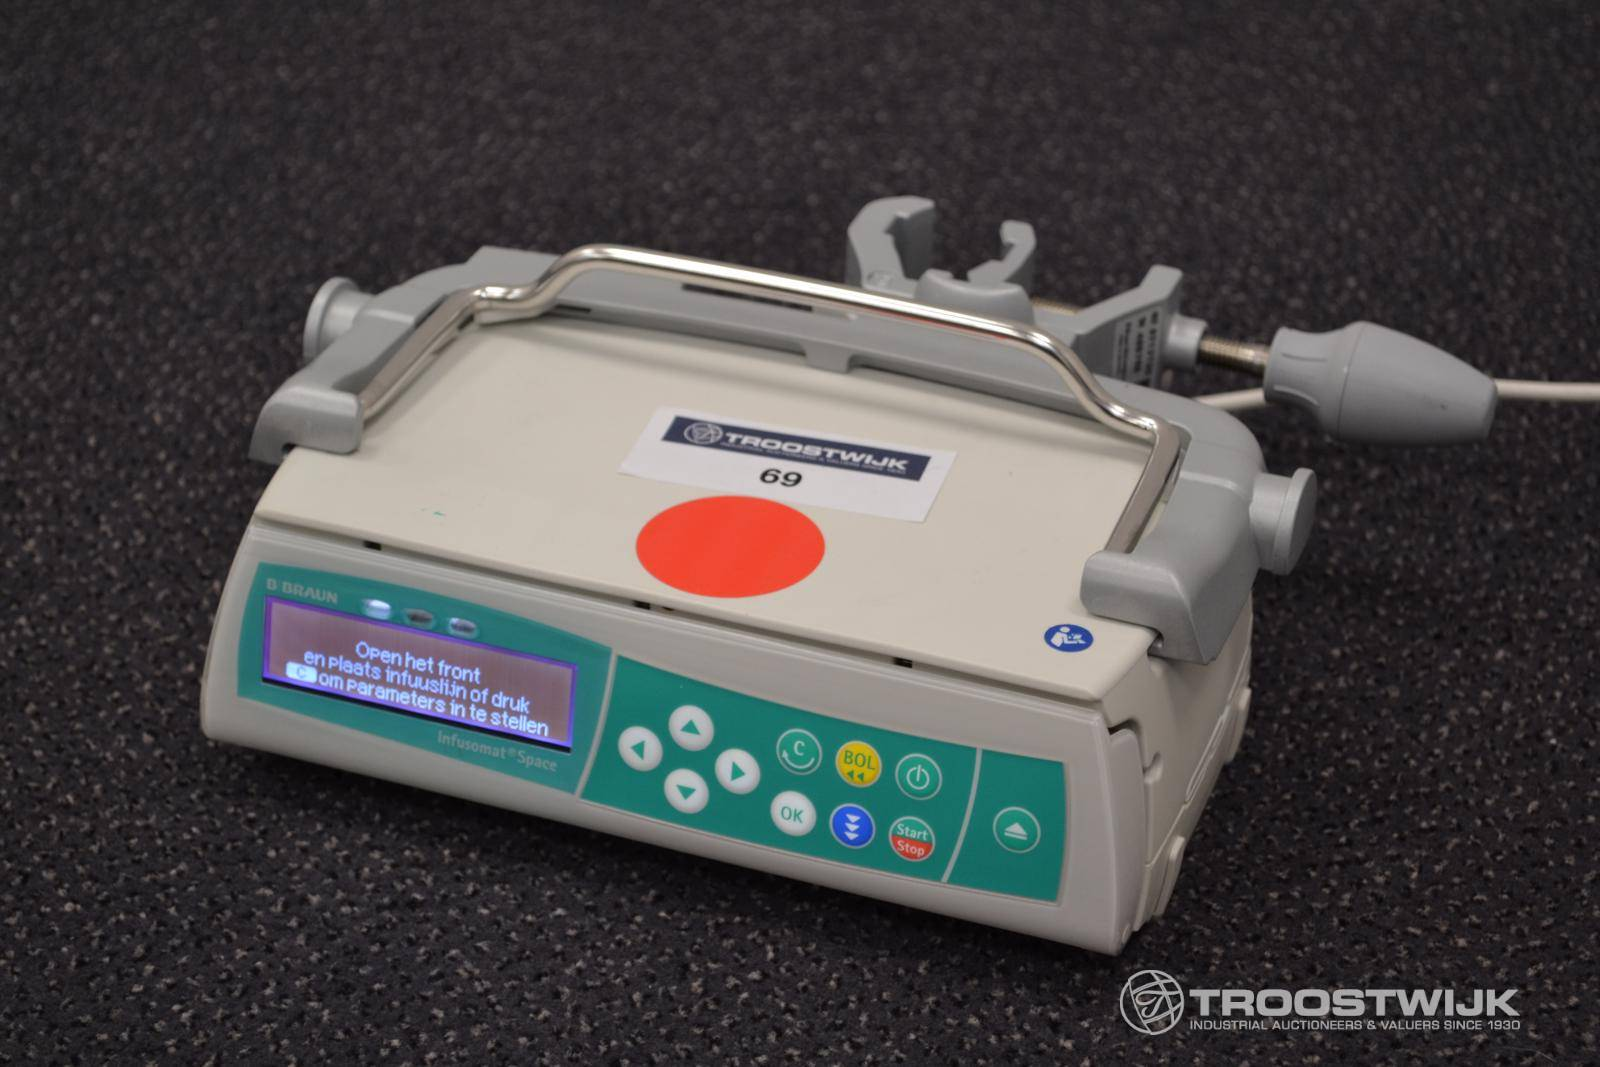BBraun Infusomat Space: (190, 224, 1311, 969)
